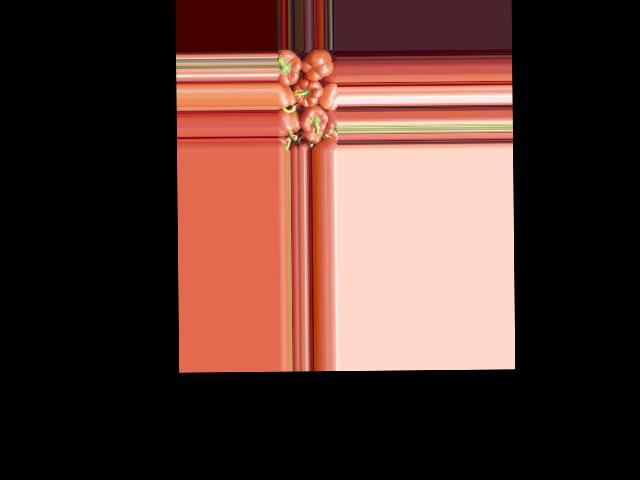bell_pepper: (320, 81, 336, 110)
